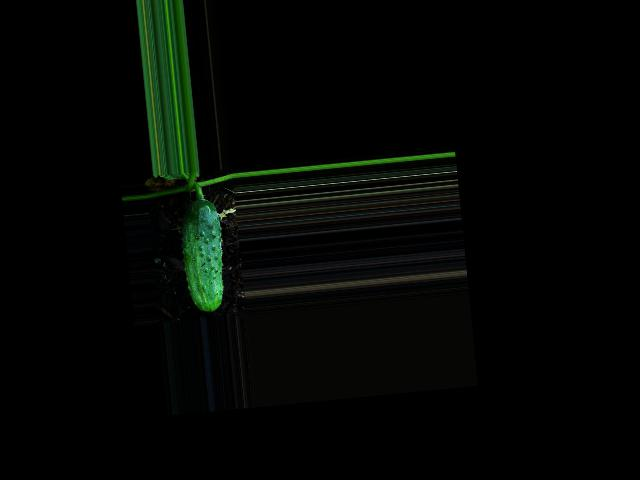cucumber: (177, 197, 229, 314)
